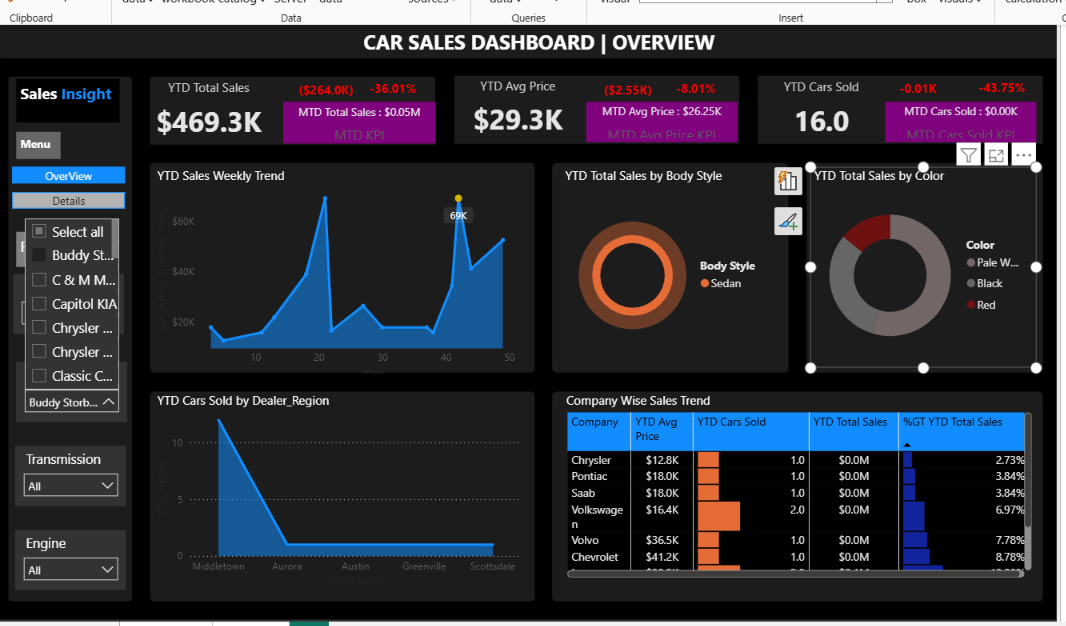

What the dashboard file says about the page in this screenshot:
{"tool":"powerbi","page":{"name":"OverView","canvas":[1280,720],"ordinal":0},"visuals":[{"type":"card","title":"YTD Total Sales","fields":{"Values":["car_data.YTD Total Sales"]},"box":[167.5,65,180,83.8],"z":0},{"type":"card","fields":{"Values":["car_data.Sales Difference"]},"box":[357.8,63.5,82.2,33.2],"z":1000},{"type":"card","fields":{"Values":["car_data.YOY Sales Growth"]},"box":[439.2,63,81.9,33.1],"z":2000},{"type":"card","fields":{"Values":["car_data.MTD KPI"]},"box":[347.9,92.9,184.2,50.4],"z":3000},{"type":"card","title":"YTD Avg Price","fields":{"Values":["car_data.YTD Avg Price"]},"box":[540.8,63.1,180.3,82.4],"z":4000},{"type":"card","fields":{"Values":["car_data.Avg Price Diff"]},"box":[722.5,64.5,81.9,33.1],"z":5000},{"type":"card","fields":{"Values":["car_data.YoY Avg Price Growth"]},"box":[804.3,63,81.9,33.1],"z":6000},{"type":"card","fields":{"Values":["car_data.MTD Avg Price KPI"]},"box":[713,92.9,182.6,48.8],"z":7000},{"type":"card","title":"YTD Cars Sold","fields":{"Values":["car_data.YTD Cars Sold"]},"box":[906.7,64.5,179.4,83.4],"z":8000},{"type":"card","fields":{"Values":["car_data.Cars Sold Diff"]},"box":[1071.9,63,81.9,33.1],"z":9000},{"type":"card","fields":{"Values":["car_data.YoY Car Sold Growth"]},"box":[1174.2,61.4,81.9,33.1],"z":10000},{"type":"card","fields":{"Values":["car_data.MTD Cars Sold KPI"]},"box":[1073.5,92.9,182.6,48.8],"z":11000},{"type":"areaChart","title":"YTD Sales Weekly Trend","fields":{"Category":["Calendar Table.Week"],"Y":["Sum(car_data.Price ($))","car_data.Max Point"]},"box":[190.5,171.6,475.4,258.1],"z":12000},{"type":"donutChart","fields":{"Category":["car_data.Body Style"],"Y":["car_data.YTD Total Sales"]},"box":[683.1,171.6,256.6,242.4],"z":13000},{"type":"donutChart","fields":{"Y":["car_data.YTD Total Sales"],"Category":["car_data.Color"]},"box":[983.8,171.6,272.3,242.4],"z":14000},{"type":"tableEx","title":"Company Wise Sales Trend","fields":{"Values":["car_data.Company","car_data.YTD Avg Price","car_data.YTD Cars Sold","car_data.YTD Total Sales1","car_data.YTD Total Sales"]},"box":[683.8,443,571.8,229.2],"z":15000},{"type":"textbox","box":[439.2,0,467.5,61.4],"z":16000},{"type":"slicer","fields":{"Values":["car_data.Body Style"]},"box":[22,300.6,133.8,72.4],"z":17000},{"type":"slicer","fields":{"Values":["car_data.Dealer_Name"]},"box":[25.2,406.1,133.8,72.4],"z":18000},{"type":"slicer","fields":{"Values":["car_data.Transmission"]},"box":[23.6,508.4,133.8,72.4],"z":19000},{"type":"slicer","fields":{"Values":["car_data.Engine"]},"box":[23.6,609.2,133.8,72.4],"z":20000},{"type":"textbox","box":[25.2,250.3,80.3,42.5],"z":21000},{"type":"textbox","box":[25,65,125,52.5],"z":22000},{"type":"textbox","box":[25,128.8,53.8,32.5],"z":23000},{"type":"pageNavigator","box":[20,171.2,136.2,50],"z":24000},{"type":"stackedAreaChart","fields":{"Category":["car_data.Dealer_Region"],"Y":["car_data.YTD Cars Sold","select"]},"box":[190.4,442.9,450.1,238.1],"z":25000}]}

Visuals, with their boxes on the page's 1280x720 design canvas (x1, y1, x2, y2). These are canvas units, not pixel positions in the 1066x626 screenshot, which may show the page scaled, cropped or inside an application window:
"YTD Total Sales" card: (168, 65, 348, 149)
card - car_data.Sales Difference: (358, 64, 440, 97)
card - car_data.YOY Sales Growth: (439, 63, 521, 96)
card - car_data.MTD KPI: (348, 93, 532, 143)
"YTD Avg Price" card: (541, 63, 721, 146)
card - car_data.Avg Price Diff: (722, 64, 804, 98)
card - car_data.YoY Avg Price Growth: (804, 63, 886, 96)
card - car_data.MTD Avg Price KPI: (713, 93, 896, 142)
"YTD Cars Sold" card: (907, 64, 1086, 148)
card - car_data.Cars Sold Diff: (1072, 63, 1154, 96)
card - car_data.YoY Car Sold Growth: (1174, 61, 1256, 94)
card - car_data.MTD Cars Sold KPI: (1074, 93, 1256, 142)
"YTD Sales Weekly Trend" areaChart: (190, 172, 666, 430)
donutChart - car_data.Body Style x car_data.YTD Total Sales: (683, 172, 940, 414)
donutChart - car_data.YTD Total Sales x car_data.Color: (984, 172, 1256, 414)
"Company Wise Sales Trend" tableEx: (684, 443, 1256, 672)
textbox: (439, 0, 907, 61)
slicer - car_data.Body Style: (22, 301, 156, 373)
slicer - car_data.Dealer_Name: (25, 406, 159, 478)
slicer - car_data.Transmission: (24, 508, 157, 581)
slicer - car_data.Engine: (24, 609, 157, 682)
textbox: (25, 250, 106, 293)
textbox: (25, 65, 150, 118)
textbox: (25, 129, 79, 161)
pageNavigator: (20, 171, 156, 221)
stackedAreaChart - car_data.Dealer_Region x car_data.YTD Cars Sold: (190, 443, 640, 681)
